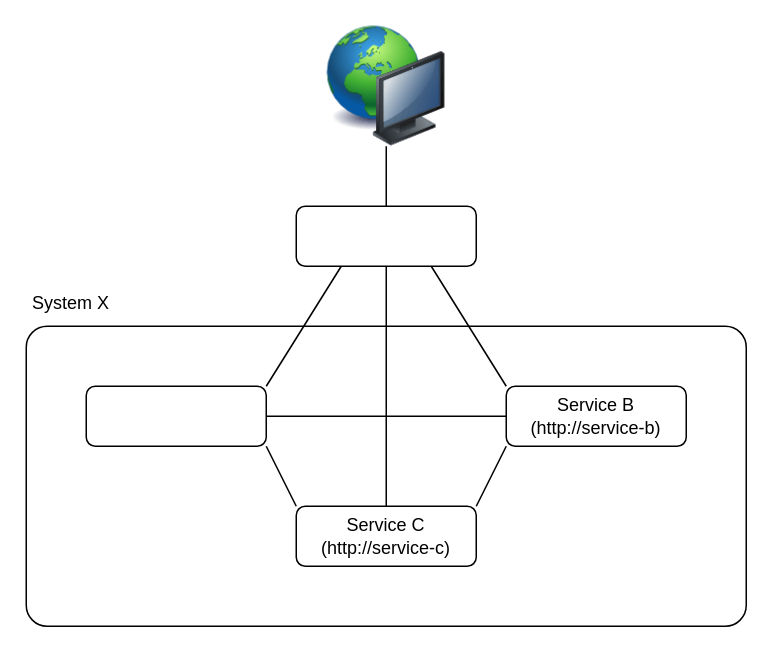
Some shapes in this 773 by 653 pixel diagram are drawn without their labels. The shapes that lost their labels are listed below. From the top down, each one's centre as x and y in pixels, then its label:
pixel 385 235: Load Balancer
pixel 175 415: Service A (http://service-a)
